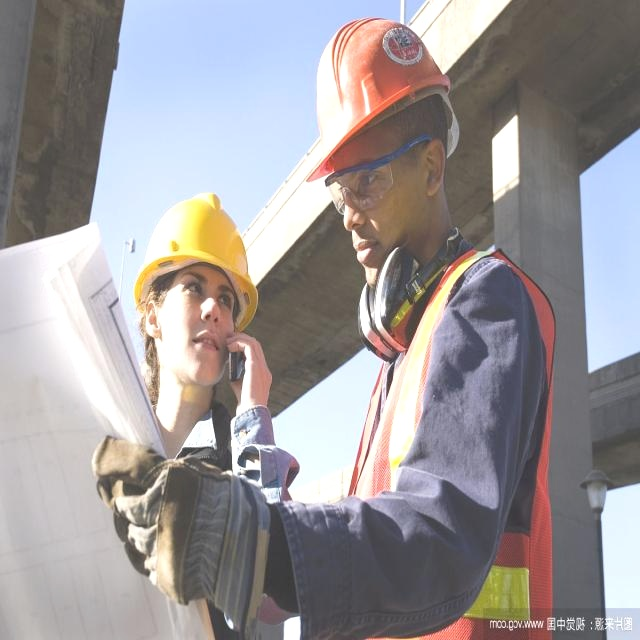Con_Casco: (313, 15, 455, 267), (136, 189, 259, 396)
Con_Chaleco: (338, 248, 556, 627)
